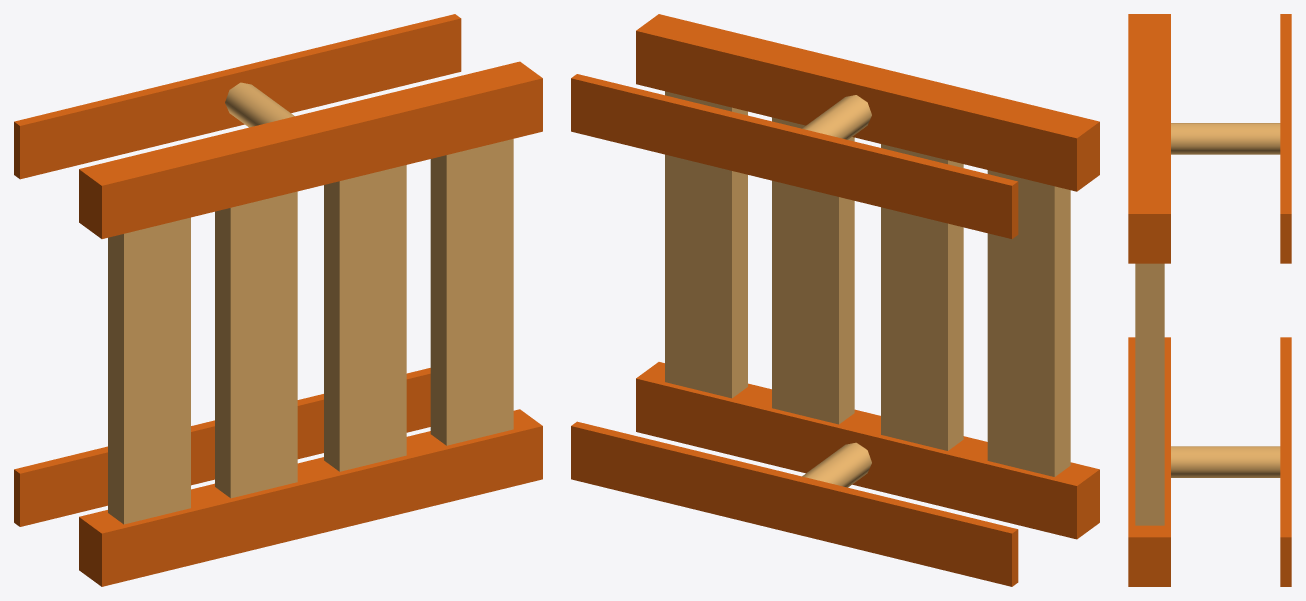
Rendered from Puente.fbx.
3 views of the same model, side by side, from view 1: azimuth 30°, elevation 25°; view 2: azimuth 150°, elevation 25°; view 3: azimuth 270°, elevation 25° (orthographic). The views are drawn at different scales.
Visible parts, largest first — view 1: Cube.002; view 2: Cube.002; view 3: Cube.002.
Boxes of the visible parts, x1,y1,x2,y2 form: Cube.002: (14,14,542,586); Cube.002: (571,14,1099,586); Cube.002: (1128,14,1291,586).
Size of the model in its own units: 304 by 264 by 105.
